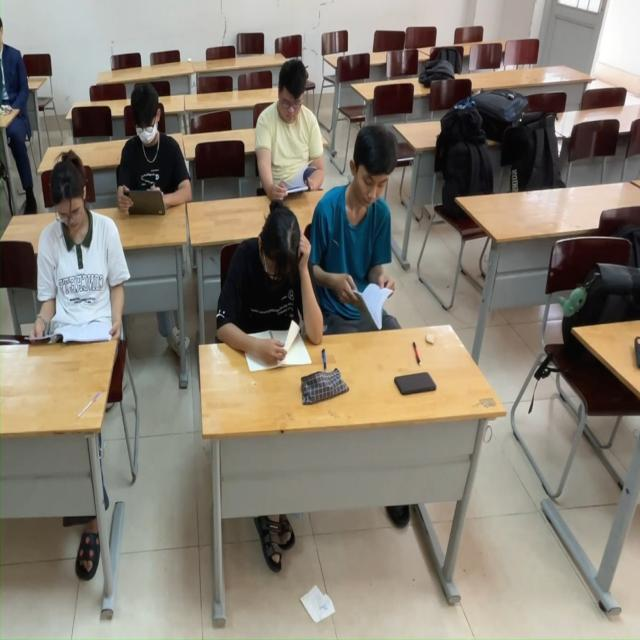read: (35, 142, 126, 389), (320, 124, 422, 331), (220, 213, 305, 379), (113, 72, 191, 219), (252, 57, 326, 199)
